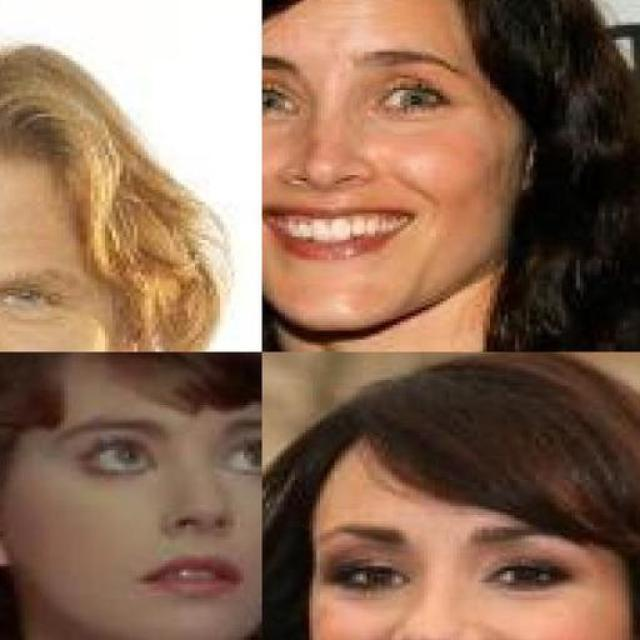bareface: (272, 3, 487, 346)
